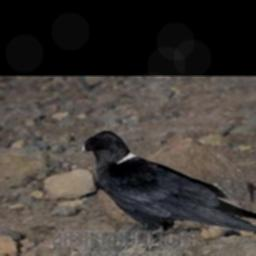Crow: (78, 130, 256, 255)
